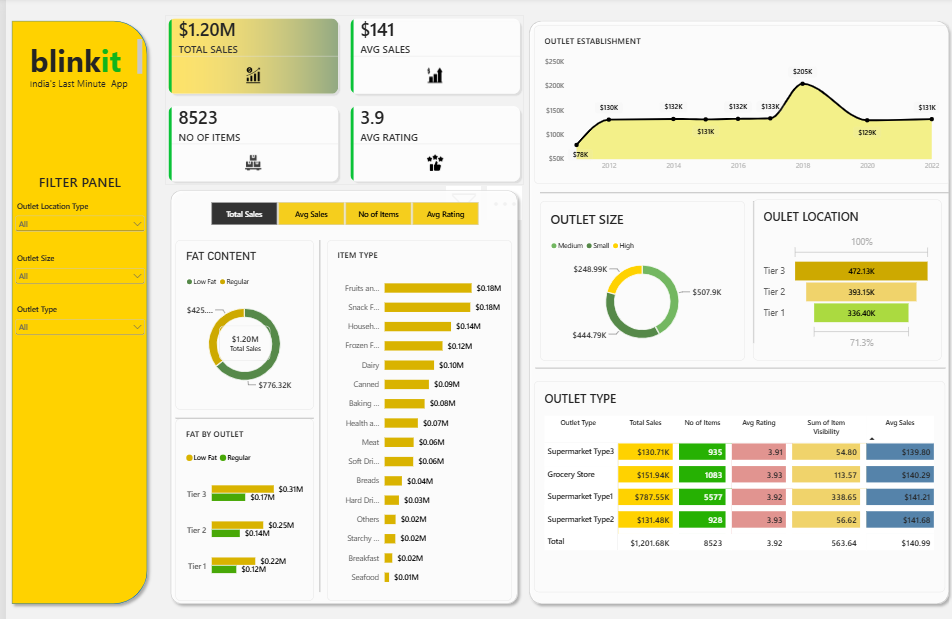

This screenshot's page, from the dashboard's own definition file:
{"tool":"powerbi","page":{"name":"Page 1","canvas":[1920,1080],"ordinal":0},"visuals":[{"type":"shape","box":[0,28,234,946],"z":0},{"type":"textbox","box":[38.2,66.8,178.9,59.6],"z":1},{"type":"textbox","box":[38.2,126.5,159.9,33.4],"z":2},{"type":"cardVisual","fields":{"Data":["BlinkIT Grocery Data.Total Sales","BlinkIT Grocery Data.Avg Sales","BlinkIT Grocery Data.No of Items","BlinkIT Grocery Data.Avg Rating"]},"box":[252.9,28.6,570,270],"z":3},{"type":"shape","box":[254,298,570,676],"z":4},{"type":"donutChart","title":"FAT CONTENT","fields":{"Category":["BlinkIT Grocery Data.Item Fat Content"],"Y":["BlinkIT Grocery Data.Total Sales"]},"box":[270,386,220,270],"z":5},{"type":"cardVisual","fields":{"Data":["BlinkIT Grocery Data.Total Sales"]},"box":[338,522,82,56],"z":7},{"type":"slicer","fields":{"Values":["Metrics 2.Metrics"]},"box":[306,324,465,40],"z":8},{"type":"clusteredBarChart","title":"FAT BY OUTLET","fields":{"Category":["BlinkIT Grocery Data.Outlet Location Type"],"Series":["BlinkIT Grocery Data.Item Fat Content"],"Y":["BlinkIT Grocery Data.Total Sales"]},"box":[270,670,220,290],"z":9},{"type":"shape","box":[270,656,220,28],"z":10},{"type":"shape","box":[490,386,20,560],"z":11},{"type":"barChart","title":"ITEM TYPE","fields":{"Category":["BlinkIT Grocery Data.Item Type"],"Y":["BlinkIT Grocery Data.Total Sales"]},"box":[510,386,294,574],"z":12},{"type":"shape","box":[824,28,686,946],"z":13},{"type":"lineChart","title":"OUTLET ESTABLISHMENT","fields":{"Category":["BlinkIT Grocery Data.Outlet Establishment Year"],"Y":["BlinkIT Grocery Data.Total Sales"]},"box":[840,46,662,252],"z":14},{"type":"shape","box":[850,298,652,26],"z":15},{"type":"donutChart","title":"OUTLET SIZE ","fields":{"Category":["BlinkIT Grocery Data.Outlet Size"],"Y":["BlinkIT Grocery Data.Total Sales"]},"box":[850,324,326,254],"z":16},{"type":"shape","box":[1168,324,40,226],"z":17},{"type":"funnel","title":"OULET LOCATION","fields":{"Category":["BlinkIT Grocery Data.Outlet Location Type"],"Y":["Sum(BlinkIT Grocery Data.Sales)"]},"box":[1188,322,300,256],"z":18},{"type":"shape","box":[842,578,652,26],"z":19},{"type":"pivotTable","title":"OUTLET TYPE","fields":{"Rows":["BlinkIT Grocery Data.Outlet Type"],"Values":["BlinkIT Grocery Data.Total Sales","BlinkIT Grocery Data.No of Items","BlinkIT Grocery Data.Avg Rating","Sum(BlinkIT Grocery Data.Item Visibility)","BlinkIT Grocery Data.Avg Sales"]},"box":[840,610,654,336],"z":20},{"type":"slicer","fields":{"Values":["BlinkIT Grocery Data.Outlet Location Type"]},"box":[10,324,216,62],"z":21},{"type":"slicer","fields":{"Values":["BlinkIT Grocery Data.Outlet Size"]},"box":[10,408,216,62],"z":22},{"type":"slicer","fields":{"Values":["BlinkIT Grocery Data.Outlet Type"]},"box":[10,490,216,62],"z":23},{"type":"textbox","box":[1519.8,28.6,152.7,944.8],"z":24},{"type":"textbox","box":[10,278,216,34],"z":25}]}

Visuals, with their boxes on the page's 1920x1080 design canvas (x1, y1, x2, y2). These are canvas units, not pixel positions in the 952x619 screenshot, which may show the page scaled, cropped or inside an application window:
shape: bbox=[0, 28, 234, 974]
textbox: bbox=[38, 67, 217, 126]
textbox: bbox=[38, 126, 198, 160]
cardVisual - BlinkIT Grocery Data.Total Sales x BlinkIT Grocery Data.Avg Sales: bbox=[253, 29, 823, 299]
shape: bbox=[254, 298, 824, 974]
"FAT CONTENT" donutChart: bbox=[270, 386, 490, 656]
cardVisual - BlinkIT Grocery Data.Total Sales: bbox=[338, 522, 420, 578]
slicer - Metrics 2.Metrics: bbox=[306, 324, 771, 364]
"FAT BY OUTLET" clusteredBarChart: bbox=[270, 670, 490, 960]
shape: bbox=[270, 656, 490, 684]
shape: bbox=[490, 386, 510, 946]
"ITEM TYPE" barChart: bbox=[510, 386, 804, 960]
shape: bbox=[824, 28, 1510, 974]
"OUTLET ESTABLISHMENT" lineChart: bbox=[840, 46, 1502, 298]
shape: bbox=[850, 298, 1502, 324]
"OUTLET SIZE " donutChart: bbox=[850, 324, 1176, 578]
shape: bbox=[1168, 324, 1208, 550]
"OULET LOCATION" funnel: bbox=[1188, 322, 1488, 578]
shape: bbox=[842, 578, 1494, 604]
"OUTLET TYPE" pivotTable: bbox=[840, 610, 1494, 946]
slicer - BlinkIT Grocery Data.Outlet Location Type: bbox=[10, 324, 226, 386]
slicer - BlinkIT Grocery Data.Outlet Size: bbox=[10, 408, 226, 470]
slicer - BlinkIT Grocery Data.Outlet Type: bbox=[10, 490, 226, 552]
textbox: bbox=[1520, 29, 1672, 973]
textbox: bbox=[10, 278, 226, 312]
